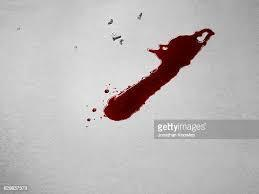Fire: (102, 28, 215, 121)
